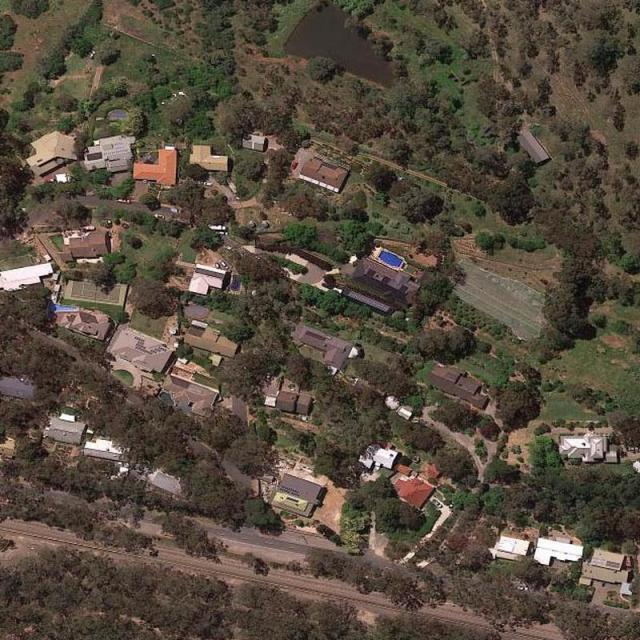vehicle: (206, 222, 226, 230), (431, 498, 442, 508), (218, 259, 227, 269), (118, 197, 129, 204), (170, 208, 181, 214), (154, 214, 165, 219), (203, 180, 212, 185)
